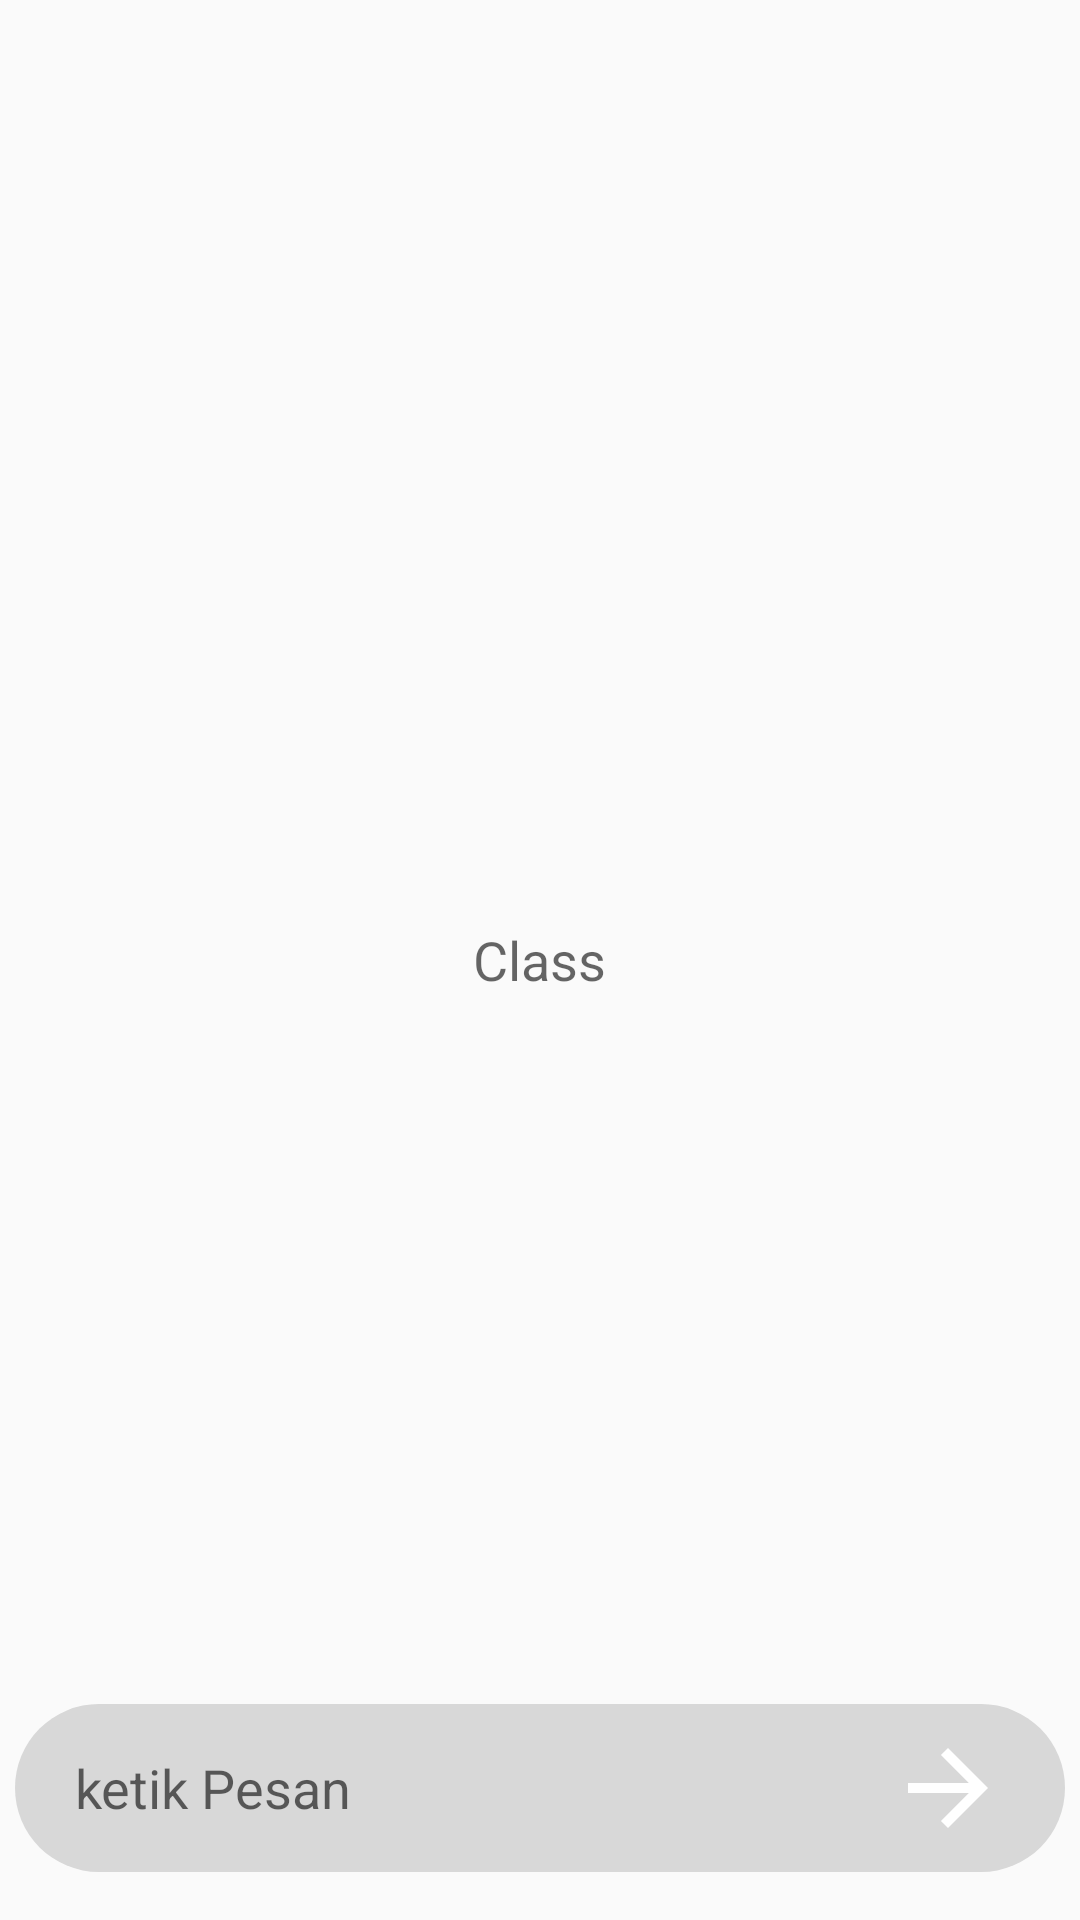

Named icons in this screenshot (1080px×1920px) and their centers, point (x, y):
arrow forward: point (947, 1788)
